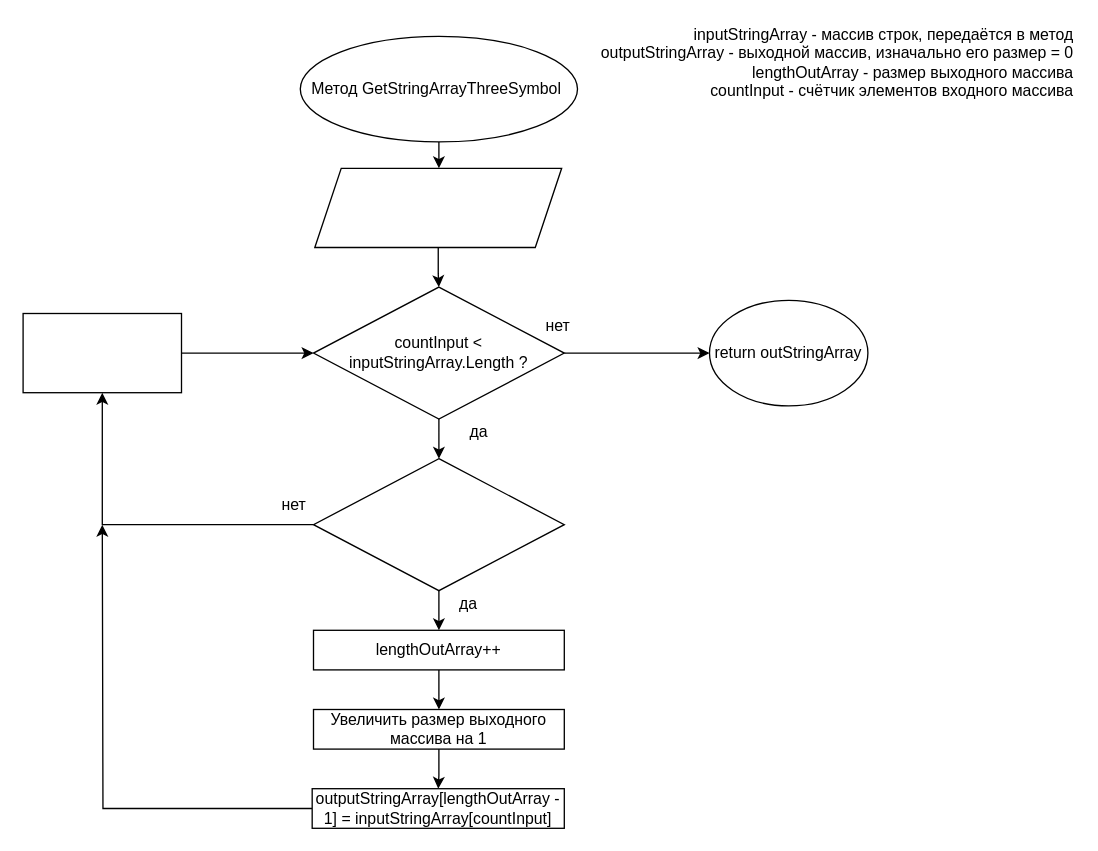
This 1098x851 diagram has some shape labels left out. The centre of each missing label's shape, as x and y in pixels:
"countInput++" belongs at (102,352).
"inputStringArray[]; outputStringArray[0]; lengthOutArray = 0; countInput = 0" belongs at (438,207).
"inputStringArray[countInput] <= 3 ?" belongs at (438,524).
